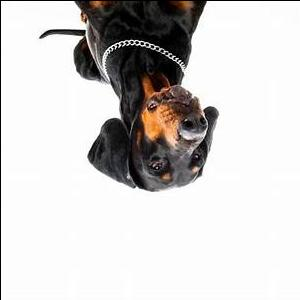dog: (38, 0, 248, 197)
